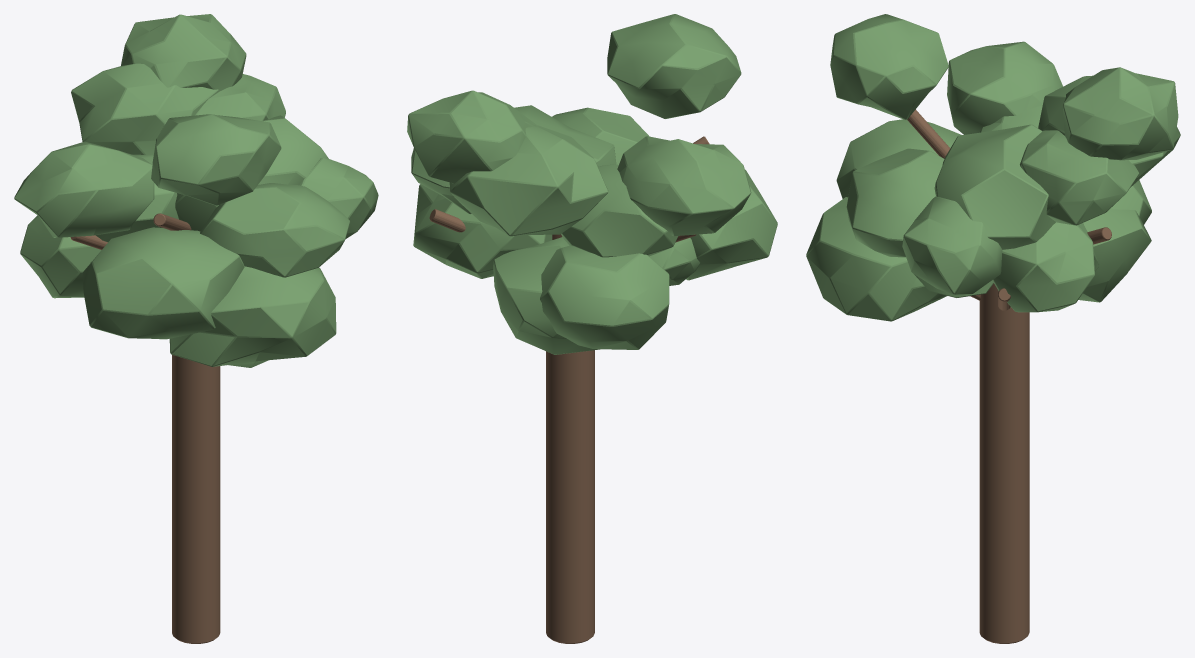
Rendered from tree_broadleaf_02.glb.
3 views of the same model, side by side, from view 1: azimuth 30°, elevation 25°; view 2: azimuth 150°, elevation 25°; view 3: azimuth 270°, elevation 25° (orthographic). The views are drawn at different scales.
Visible parts, largest first — view 1: Canopy_Mesh, Trunk_Mesh; view 2: Canopy_Mesh, Trunk_Mesh; view 3: Canopy_Mesh, Trunk_Mesh.
Boxes of the visible parts, x1=… form: Canopy_Mesh: x1=14, y1=14, x2=378, y2=367; Trunk_Mesh: x1=70, y1=213, x2=220, y2=643; Canopy_Mesh: x1=407, y1=14, x2=777, y2=354; Trunk_Mesh: x1=429, y1=136, x2=709, y2=643; Canopy_Mesh: x1=806, y1=14, x2=1180, y2=321; Trunk_Mesh: x1=907, y1=109, x2=1111, y2=643.
Bounding box in the file's own units: 6.68 × 11.2 × 6.44.
